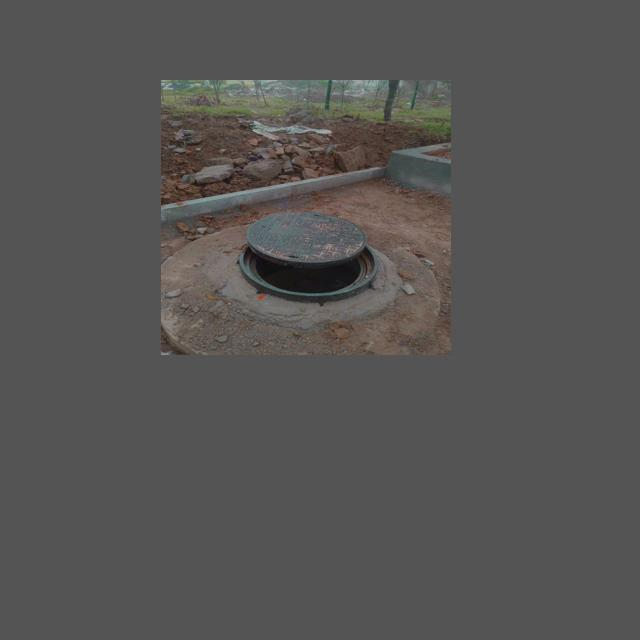uncovered: (239, 211, 379, 301)
